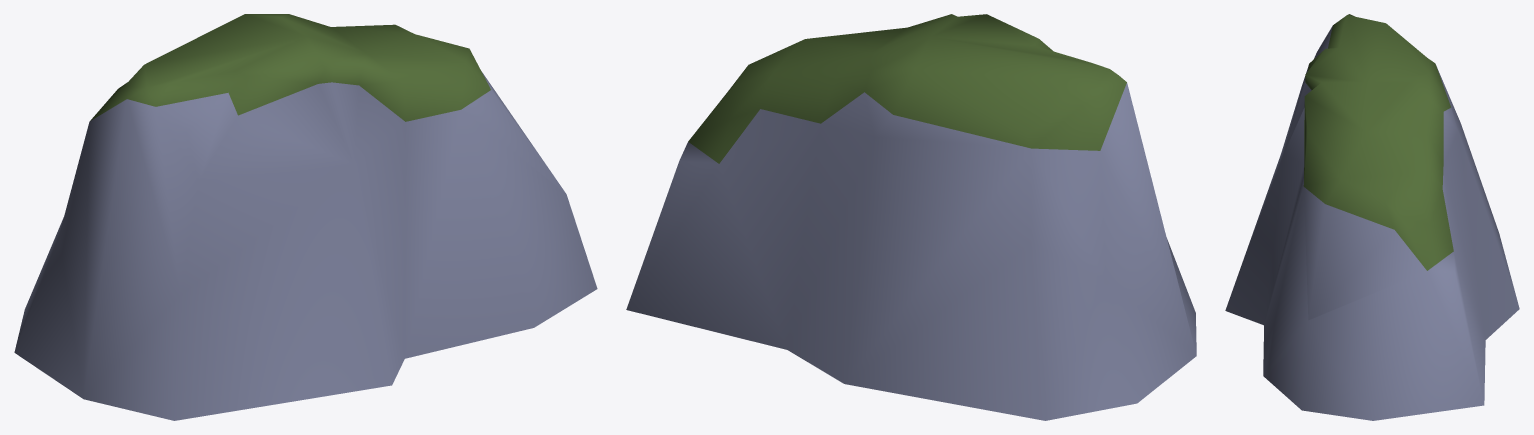
The model's file is Rock_4_2 Asia.fbx.
The picture shows the model from 3 angles, left to right: view 1: azimuth 30°, elevation 25°; view 2: azimuth 150°, elevation 25°; view 3: azimuth 270°, elevation 25°; orthographic projection. The views are drawn at different scales.
Parts seen in each view (by area): view 1: Rock_4_2; view 2: Rock_4_2; view 3: Rock_4_2.
Part boxes in pixels (box(x1,y1,x2,y2)): Rock_4_2: box(14, 14, 597, 420); Rock_4_2: box(626, 14, 1196, 420); Rock_4_2: box(1225, 14, 1519, 420).
Size of the model in its own units: 478 by 245 by 285.
